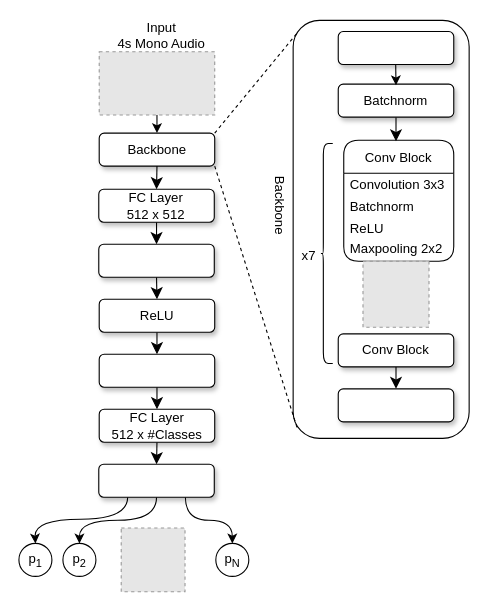
This 490x612 diagram has some shape labels left out. Grey dashed boxes stand in for pictures. Here are the shapes that lost their labels. From the top down, the centre of each, then its label:
At point 396,49: "Mel-Spectrogram".
At point 157,262: "1D Batchnorm".
At point 157,372: "Dropout p=0.5".
At point 396,406: "1D Maxpooling".
At point 157,482: "Sigmoid".
